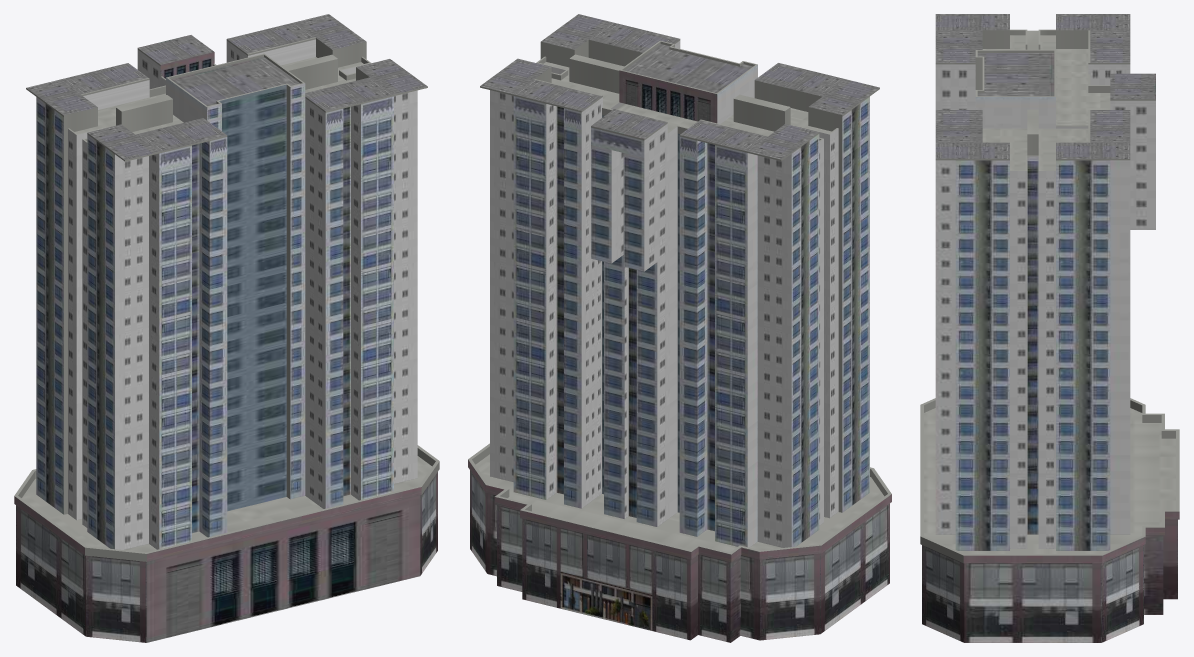
3 views of the same model, side by side, from view 1: azimuth 30°, elevation 25°; view 2: azimuth 150°, elevation 25°; view 3: azimuth 270°, elevation 25° (orthographic).
Parts seen in each view (by area): view 1: HN825_SunshineYenHoa; view 2: HN825_SunshineYenHoa; view 3: HN825_SunshineYenHoa.
Boxes of the visible parts, x1=… form: HN825_SunshineYenHoa: x1=14, y1=14, x2=439, y2=642; HN825_SunshineYenHoa: x1=468, y1=14, x2=891, y2=642; HN825_SunshineYenHoa: x1=920, y1=14, x2=1179, y2=642.
Bounding box in the file's own units: 70.32 × 93.59 × 45.31.
1 material, 1 textured.
